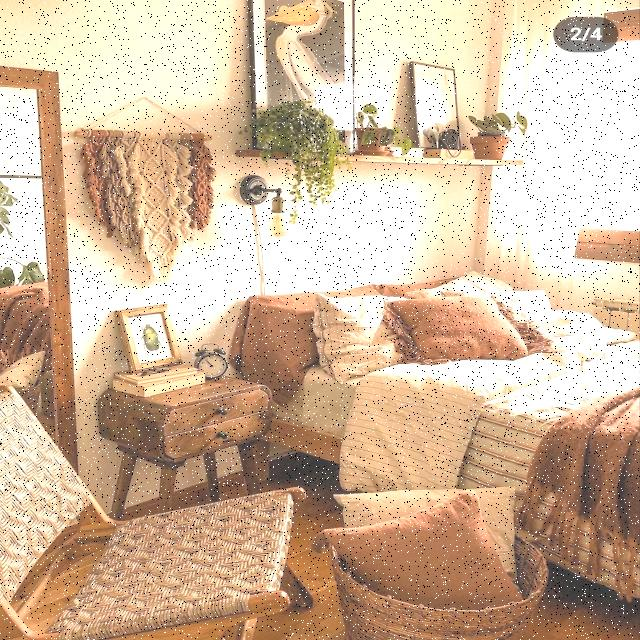bed: (283, 267, 640, 504)
